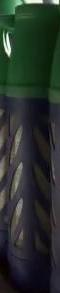cylinder: (1, 1, 60, 293)
